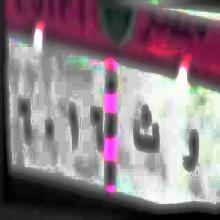0: (44, 106, 57, 150)
1: (68, 104, 81, 160)
6: (15, 90, 34, 154), (89, 102, 105, 160)
thaa: (132, 101, 160, 163)
waw: (178, 118, 200, 178)
